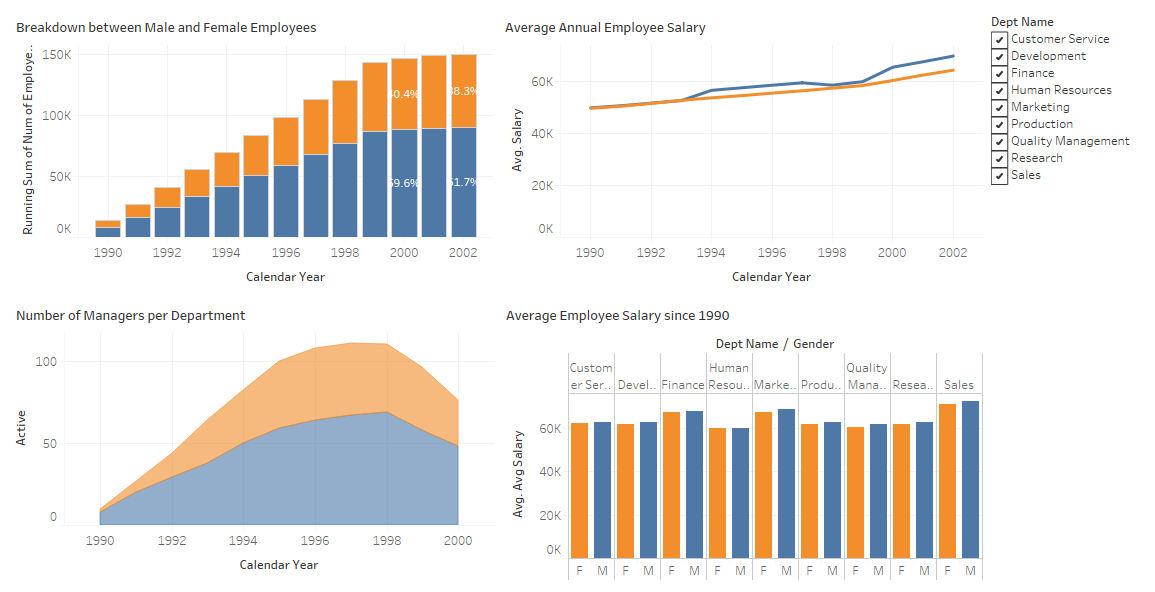

What the dashboard file says about the page in this screenshot:
{"tool":"tableau","page":{"name":"Dashboard 1","canvas":[1000,1000],"units":"permille","ordinal":0},"visuals":[{"type":"worksheet","title":"SQL_Tableau_1","mark":"Bar","rows":["emp_count"],"cols":["joining_year"],"box":[6.9,13.5,423.8,486.5]},{"type":"worksheet","title":"SQL_Tableau_3","mark":"Automatic","rows":["salary"],"cols":["calendar_year"],"box":[430.7,13.5,423.8,486.5]},{"type":"filter","title":"SQL_Tableau_3","param":"[federated.16y67wy0c5darf15w4pqc1vx4ehb].[none:dept_name:nk]","box":[854.5,13.5,138.5,375]},{"type":"worksheet","title":"SQL_Tableau_2","mark":"Area","rows":["active"],"cols":["calendar_year"],"box":[6.9,500,423.8,486.5]},{"type":"worksheet","title":"SQL_Tableau_4","mark":"Bar","rows":["avg_salary"],"cols":["dept_name","gender"],"box":[430.7,500,423.8,486.5]}]}

Visuals, with their boxes on the dashboard's canvas, which has no fixed pixel size, in thousandths of its width and height (x1, y1, x2, y2). These are canvas units, not pixel positions in the 1155x592 screenshot, which may show the page scaled, cropped or inside an application window:
"SQL_Tableau_1" worksheet (Bar marks): (x1=7, y1=14, x2=431, y2=500)
"SQL_Tableau_3" worksheet: (x1=431, y1=14, x2=854, y2=500)
"SQL_Tableau_3" filter: (x1=854, y1=14, x2=993, y2=388)
"SQL_Tableau_2" worksheet (Area marks): (x1=7, y1=500, x2=431, y2=986)
"SQL_Tableau_4" worksheet (Bar marks): (x1=431, y1=500, x2=854, y2=986)
